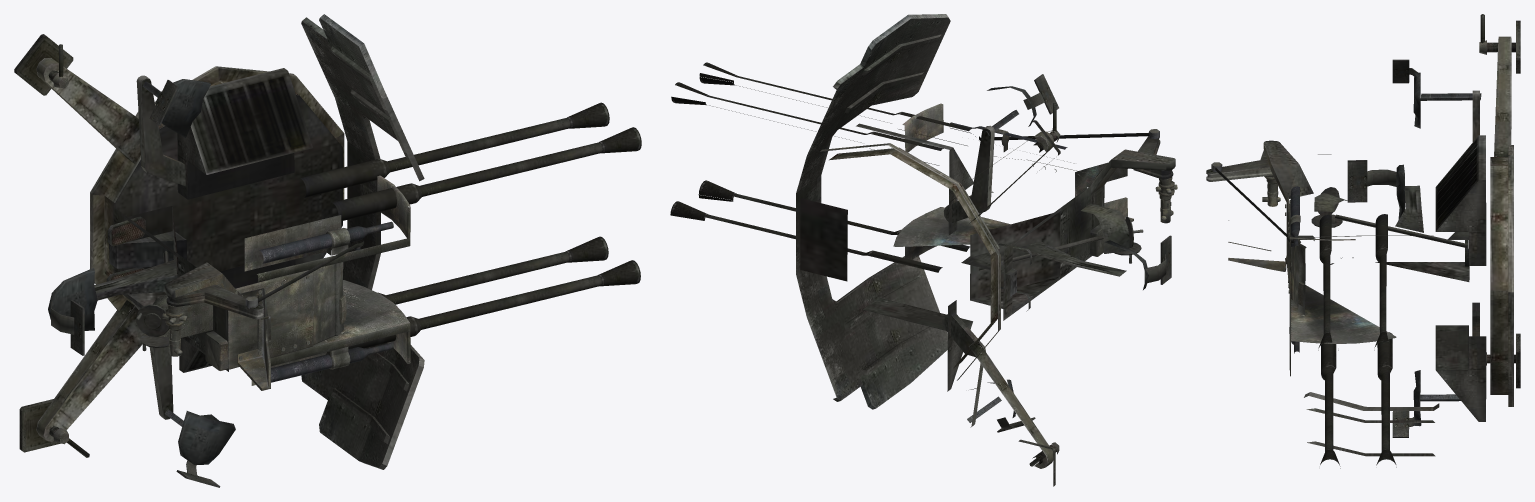
File: german_artillery_flakveirling_viewmodel.glb
3 views of the same model, side by side, from view 1: azimuth 30°, elevation 25°; view 2: azimuth 150°, elevation 25°; view 3: azimuth 270°, elevation 25° (orthographic). The views are drawn at different scales.
Size of the model in its own units: 164 by 123 by 92.71.
2 materials, 2 textured.
